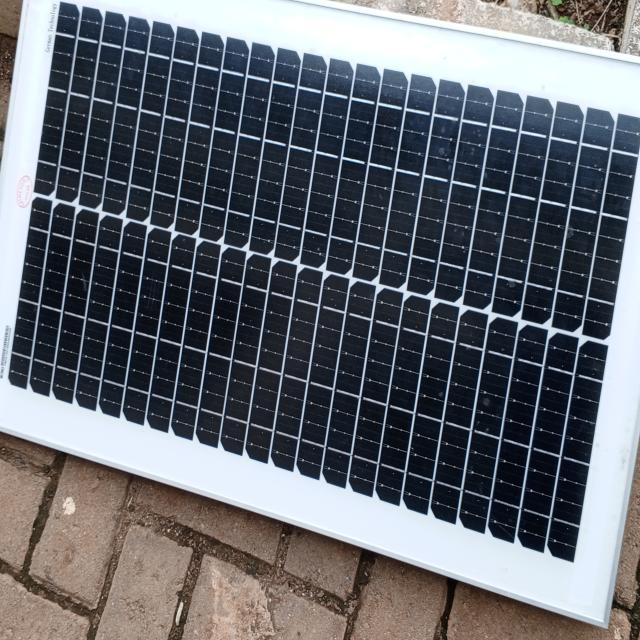Clean: (46, 98, 640, 439)
